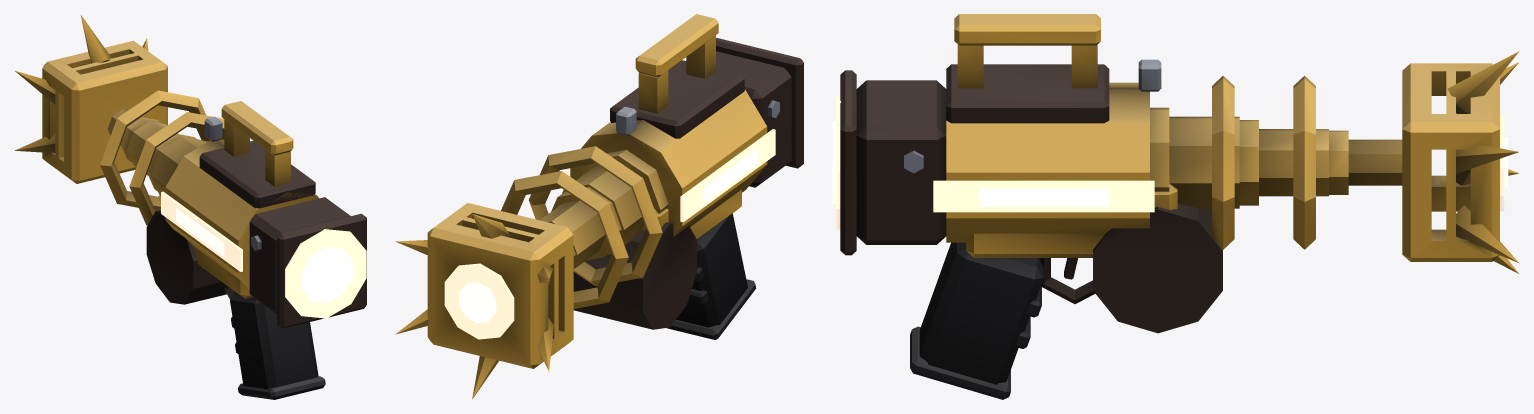
The model's file is Nova.glb.
3 renders of one model, left to right at view 1: azimuth 30°, elevation 25°; view 2: azimuth 150°, elevation 25°; view 3: azimuth 270°, elevation 25°, orthographic. The views are drawn at different scales.
Visible parts, largest first — view 1: Body, Halo_Glow, Accent_Glow; view 2: Body, Halo_Glow, Accent_Glow; view 3: Body, Halo_Glow, Accent_Glow.
Boxes of the visible parts, box(x1,y1,x2,y2) form: Body: box(14, 14, 366, 399); Halo_Glow: box(161, 191, 366, 318); Accent_Glow: box(176, 208, 352, 302); Body: box(395, 14, 803, 399); Halo_Glow: box(444, 47, 775, 339); Accent_Glow: box(459, 149, 758, 322); Body: box(840, 14, 1519, 399); Halo_Glow: box(836, 96, 1504, 229); Accent_Glow: box(832, 121, 1508, 206).
Bounding box in the file's own units: 1.31 × 2.47 × 4.22.
